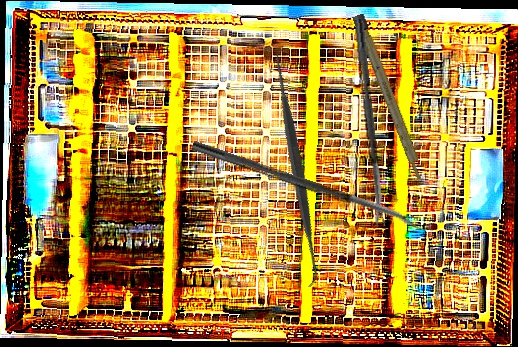Scalpel Handle: (352, 13, 427, 183)
Spatula Surgical: (175, 46, 418, 289)
Surgical Spoon: (190, 140, 419, 229), (353, 19, 385, 227)
